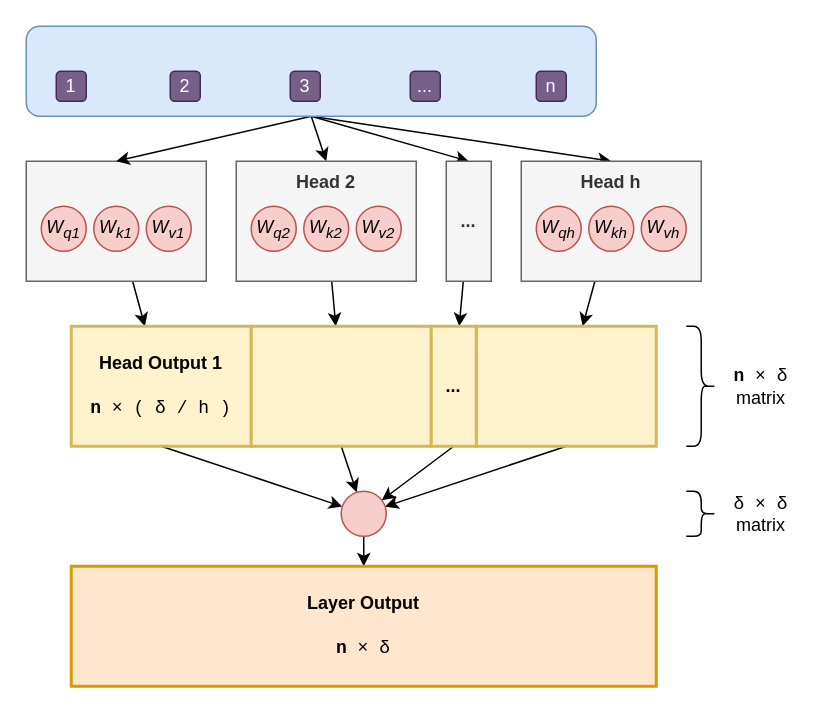
Some shapes in this 833 by 714 pixel diagram are drawn without their labels. The shapes that lost their labels are listed below. From the top down, each one's box as (x1, y1, x2, y2) in pixels, then its label:
(25, 25, 596, 116): Input Tokens
(25, 160, 206, 281): Head 1
(249, 324, 432, 447): Head Output 2 n × ( δ / h )
(474, 324, 657, 447): Head Output h n × ( δ / h )
(340, 490, 386, 536): W o
